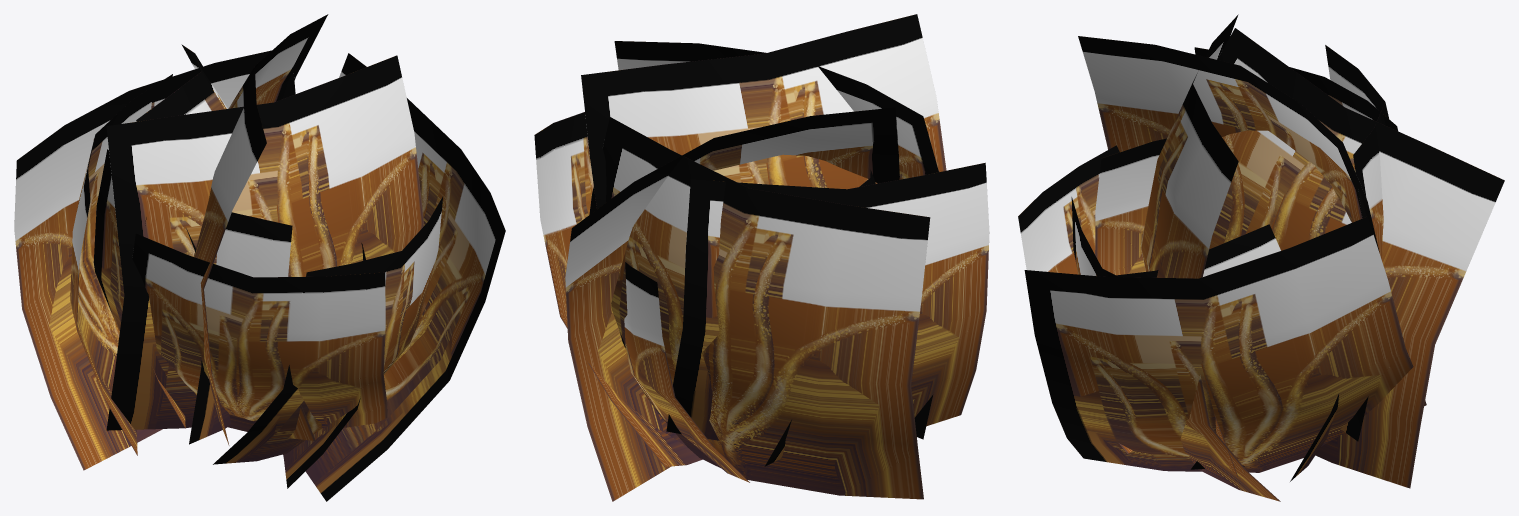
File: anoneme 1 fbx.fbx
The picture shows the model from 3 angles, left to right: view 1: azimuth 30°, elevation 25°; view 2: azimuth 150°, elevation 25°; view 3: azimuth 270°, elevation 25°; orthographic projection. The views are drawn at different scales.
Parts seen in each view (by area): view 1: Plane.034; view 2: Plane.034; view 3: Plane.034.
Boxes of the visible parts, <box> form: Plane.034: <box>14,14,505,501</box>; Plane.034: <box>534,14,989,501</box>; Plane.034: <box>1018,14,1504,501</box>.
Size of the model in its own units: 78.89 by 75.46 by 83.45.
Materials: 1 (1 with a texture image).
